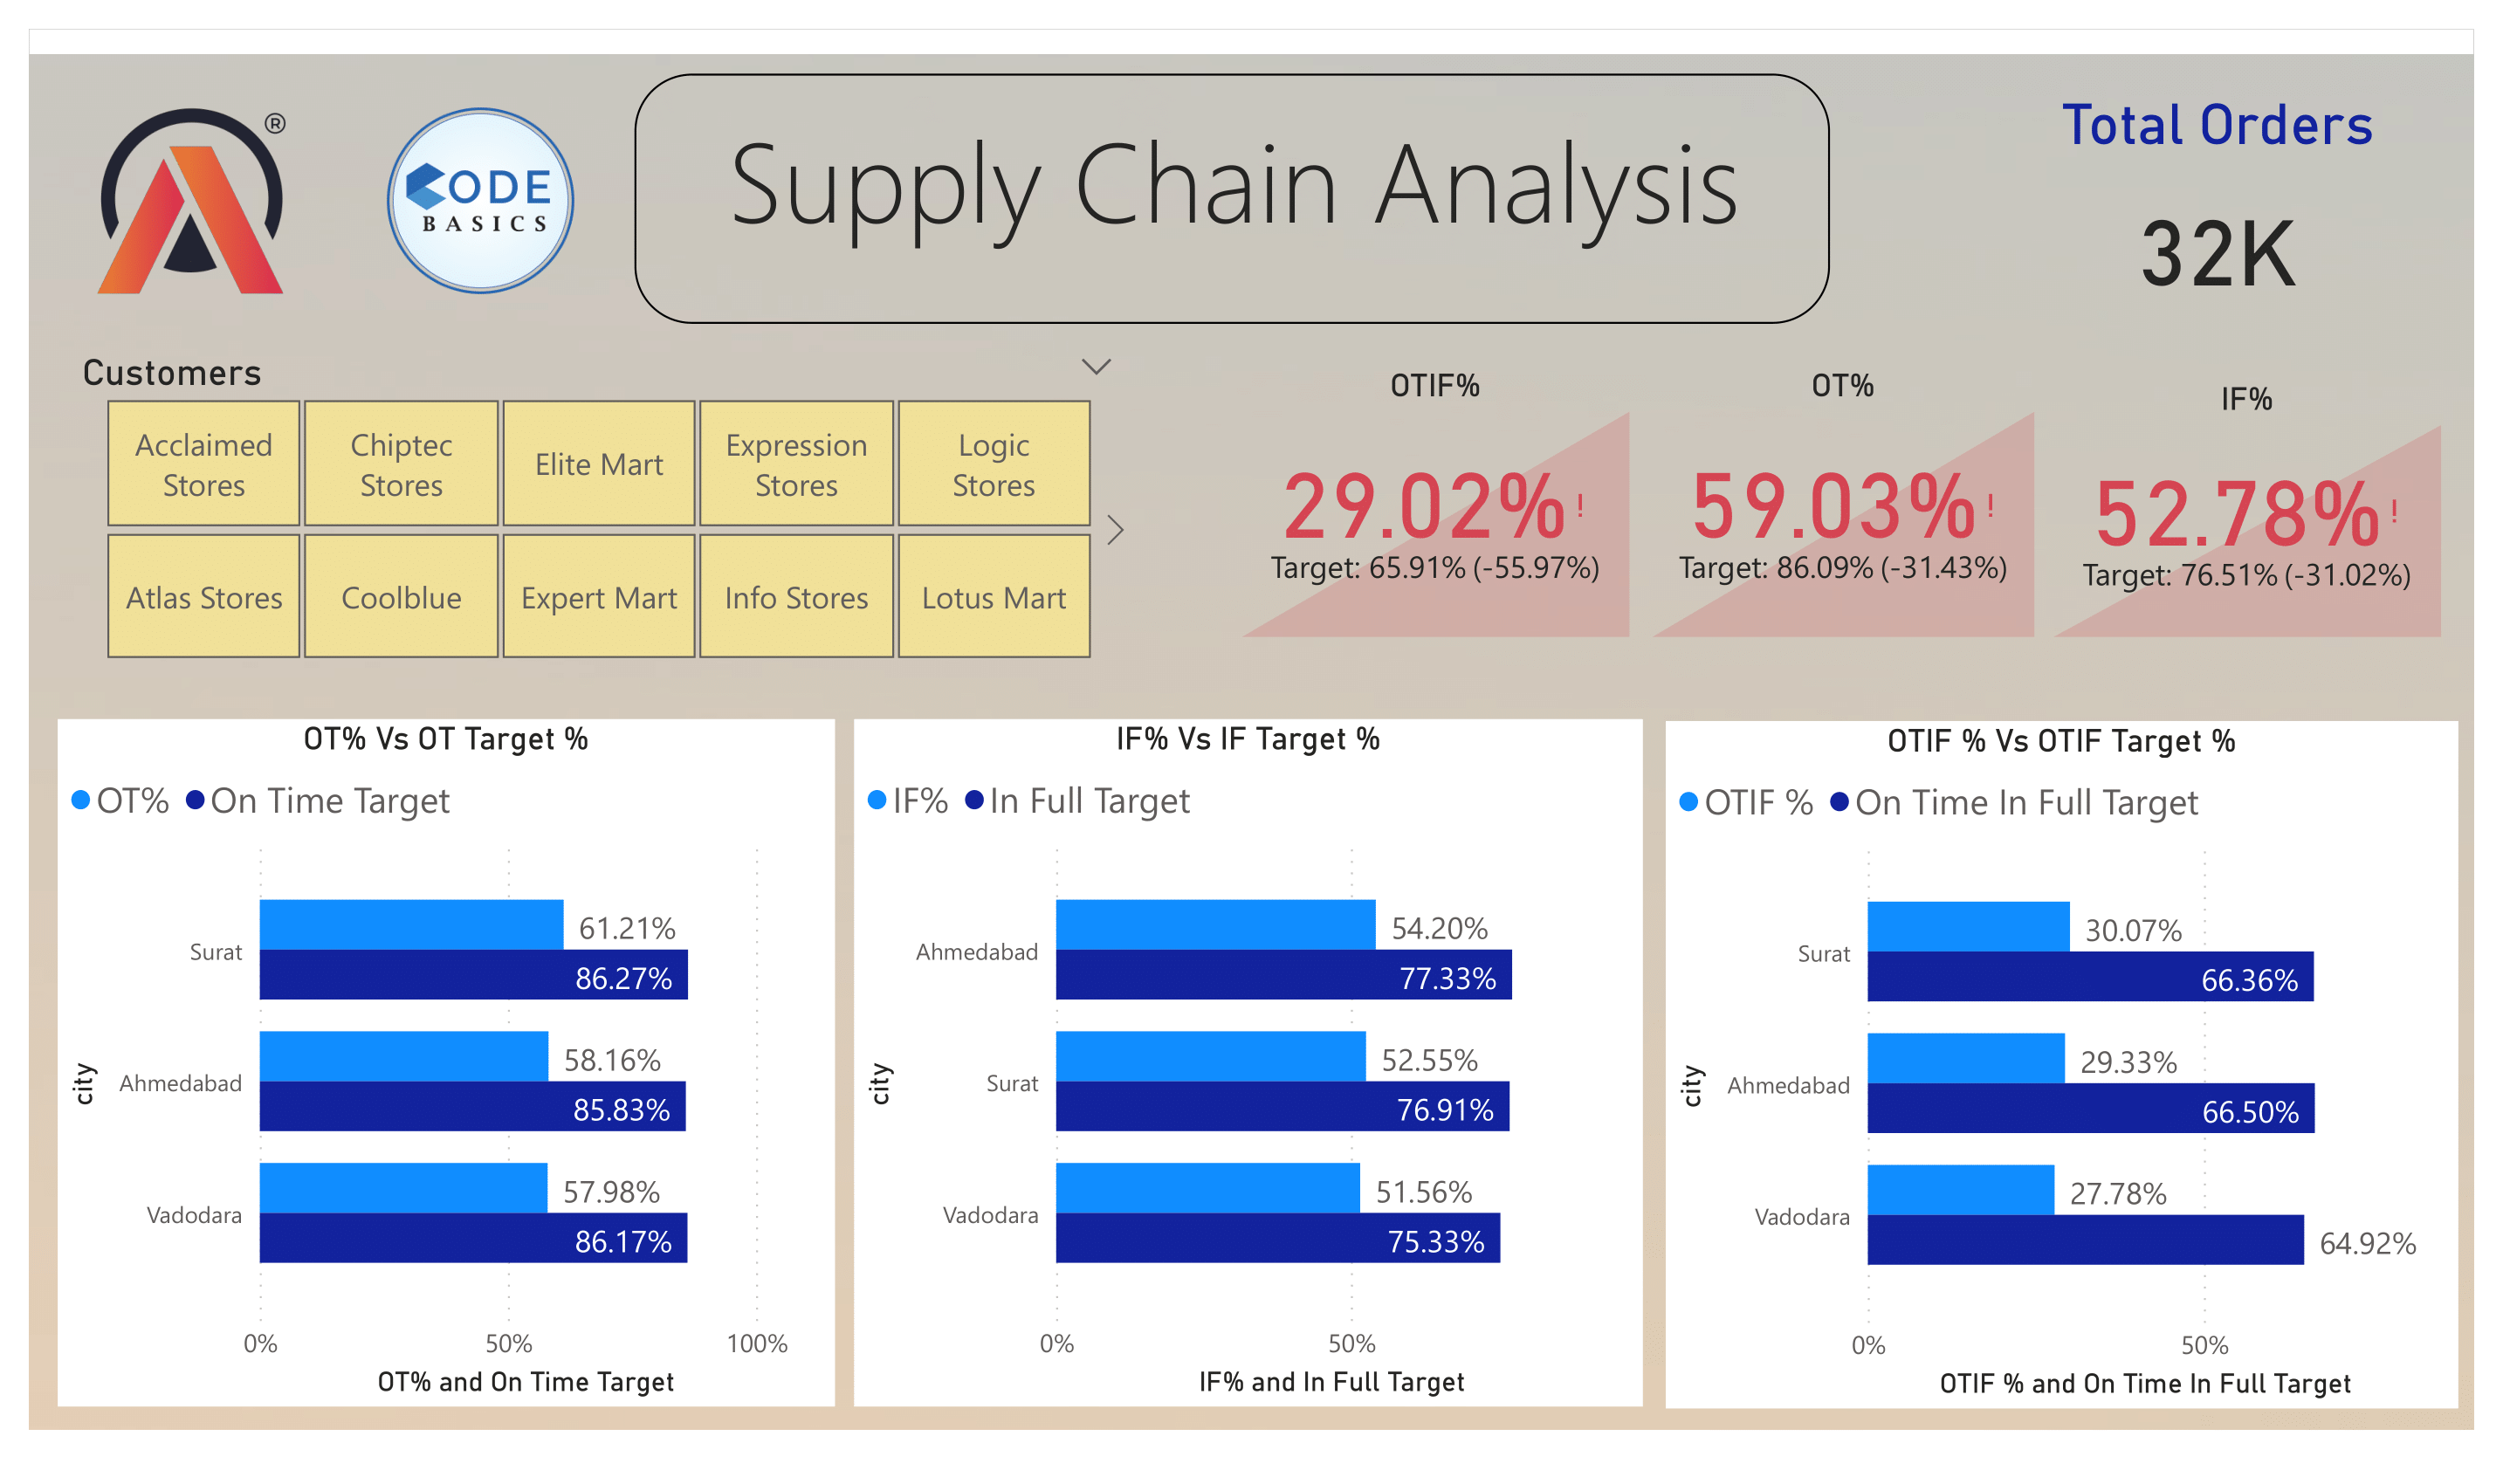

This screenshot's page, from the dashboard's own definition file:
{"tool":"powerbi","page":{"name":"KPIs","canvas":[1280,720],"ordinal":0},"visuals":[{"type":"image","box":[30,20,111.7,111.7],"z":0},{"type":"card","fields":{"Values":["Key_Measures.Total Orders"]},"box":[1021.4,0,187.1,124.3],"z":1000},{"type":"kpi","title":"OT% ","fields":{"Indicator":["Key_Measures.OT%"],"Goal":["Key_Measures.On Time Target"],"TrendLine":["dim_date.date.Variation.Date Hierarchy.Year"]},"box":[845,163.3,210,146.7],"z":2000},{"type":"kpi","title":"IF% ","fields":{"TrendLine":["dim_date.date.Variation.Date Hierarchy.Year"],"Indicator":["Key_Measures.IF%"],"Goal":["Key_Measures.In Full Target"]},"box":[1055,170,213.3,140],"z":3000},{"type":"kpi","title":"OTIF% ","fields":{"TrendLine":["dim_date.date.Variation.Date Hierarchy.Year"],"Indicator":["Key_Measures.OTIF %"],"Goal":["Key_Measures.On Time In Full Target"]},"box":[630,163.3,213.3,146.7],"z":4000},{"type":"clusteredBarChart","title":"OT% Vs OT Target %","fields":{"Category":["dim_customers.city"],"Y":["Key_Measures.OT%","Key_Measures.On Time Target"]},"box":[15,348.3,406.7,360],"z":5000},{"type":"clusteredBarChart","title":"IF% Vs IF Target %","fields":{"Category":["dim_customers.city"],"Y":["Key_Measures.IF%","Key_Measures.In Full Target"]},"box":[431.7,348.3,413.3,360],"z":6000},{"type":"clusteredBarChart","title":"OTIF % Vs OTIF Target %","fields":{"Category":["dim_customers.city"],"Y":["Key_Measures.OTIF %","Key_Measures.On Time In Full Target"]},"box":[856.7,348.9,415.6,360],"z":7000},{"type":"slicer","fields":{"Values":["dim_customers.customer_name"]},"box":[15,150,565,173.3],"z":8000},{"type":"textbox","box":[317.1,10,625.7,131.4],"z":9000},{"type":"image","box":[155.7,18.6,161.4,115.7],"z":10000}]}

Visuals, with their boxes on the page's 1280x720 design canvas (x1, y1, x2, y2). These are canvas units, not pixel positions in the 2503x1484 screenshot, which may show the page scaled, cropped or inside an application window:
image: locate(30, 20, 142, 132)
card - Key_Measures.Total Orders: locate(1021, 0, 1208, 124)
"OT% " kpi: locate(845, 163, 1055, 310)
"IF% " kpi: locate(1055, 170, 1268, 310)
"OTIF% " kpi: locate(630, 163, 843, 310)
"OT% Vs OT Target %" clusteredBarChart: locate(15, 348, 422, 708)
"IF% Vs IF Target %" clusteredBarChart: locate(432, 348, 845, 708)
"OTIF % Vs OTIF Target %" clusteredBarChart: locate(857, 349, 1272, 709)
slicer - dim_customers.customer_name: locate(15, 150, 580, 323)
textbox: locate(317, 10, 943, 141)
image: locate(156, 19, 317, 134)
